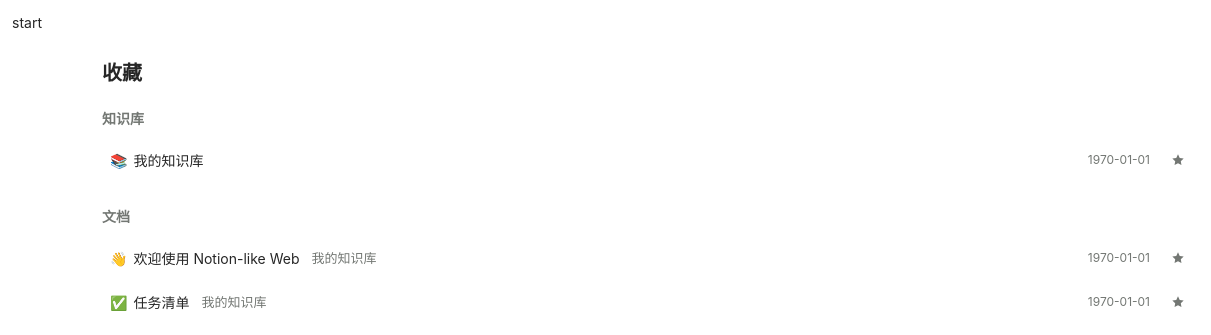
Test case: FavoritesPage › 按收藏时间倒序展示知识库与文档，可取消收藏
This screenshot has width=1211, height=335.
expect the button "✅ 任务清单" is shown: met, box left=110, top=292, right=190, bottom=312
expect the button "📚 我的知识库" is shown: met, box left=110, top=150, right=204, bottom=170
# 取消收藏后从列表移除。
What coordinates should you click on to do the following:
click the button named "取消收藏文档「任务清单」"
I would click on:
 (1178, 302)
Its box is left=1162, top=286, right=1194, bottom=318.
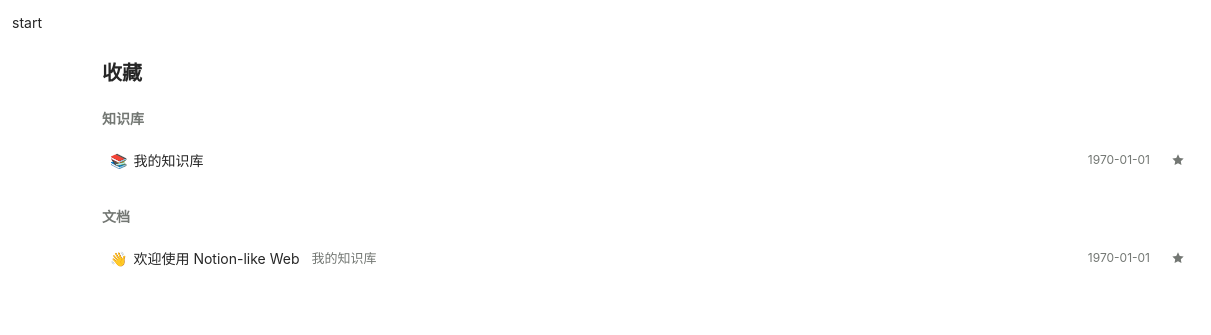
expect the button with class "favorites__title" showing "👋 欢迎使用 Notion-like Web" is shown: met, box left=110, top=248, right=300, bottom=268
expect the button "任务清单" is gone: met
